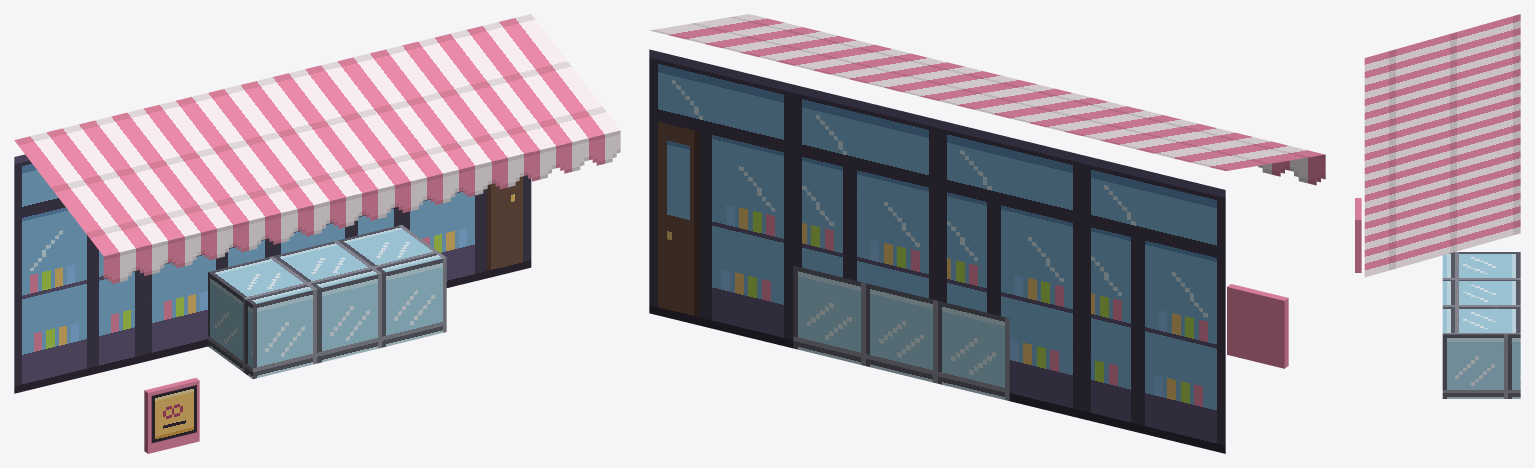
The model's file is shop.gltf.
3 views of the same model, side by side, from view 1: azimuth 30°, elevation 25°; view 2: azimuth 150°, elevation 25°; view 3: azimuth 270°, elevation 25° (orthographic). The views are drawn at different scales.
Visible parts, largest first — view 1: Awning, Shopfront, Glass, Valance, Poster, Board; view 2: Shopfront, Awning, Glass, Board, Valance; view 3: Awning, Glass, Board.
Boxes of the visible parts, x1=… form: Awning: x1=14, y1=14, x2=620, y2=256; Shopfront: x1=14, y1=154, x2=531, y2=393; Glass: x1=208, y1=225, x2=446, y2=378; Valance: x1=103, y1=130, x2=620, y2=283; Poster: x1=151, y1=385, x2=196, y2=442; Board: x1=144, y1=378, x2=199, y2=453; Shopfront: x1=649, y1=49, x2=1225, y2=453; Awning: x1=650, y1=14, x2=1324, y2=170; Glass: x1=793, y1=265, x2=1009, y2=400; Board: x1=1227, y1=284, x2=1288, y2=368; Valance: x1=1258, y1=154, x2=1325, y2=185; Awning: x1=1364, y1=14, x2=1520, y2=277; Glass: x1=1442, y1=252, x2=1520, y2=398; Board: x1=1355, y1=198, x2=1361, y2=272.
Bounding box in the file's own units: 8 × 3.75 × 2.56.
Materials: 6 (6 with a texture image).
